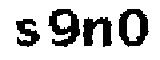0: (115, 4, 149, 50)
9: (45, 8, 80, 48)
n: (81, 14, 111, 51)
s: (12, 18, 42, 50)
